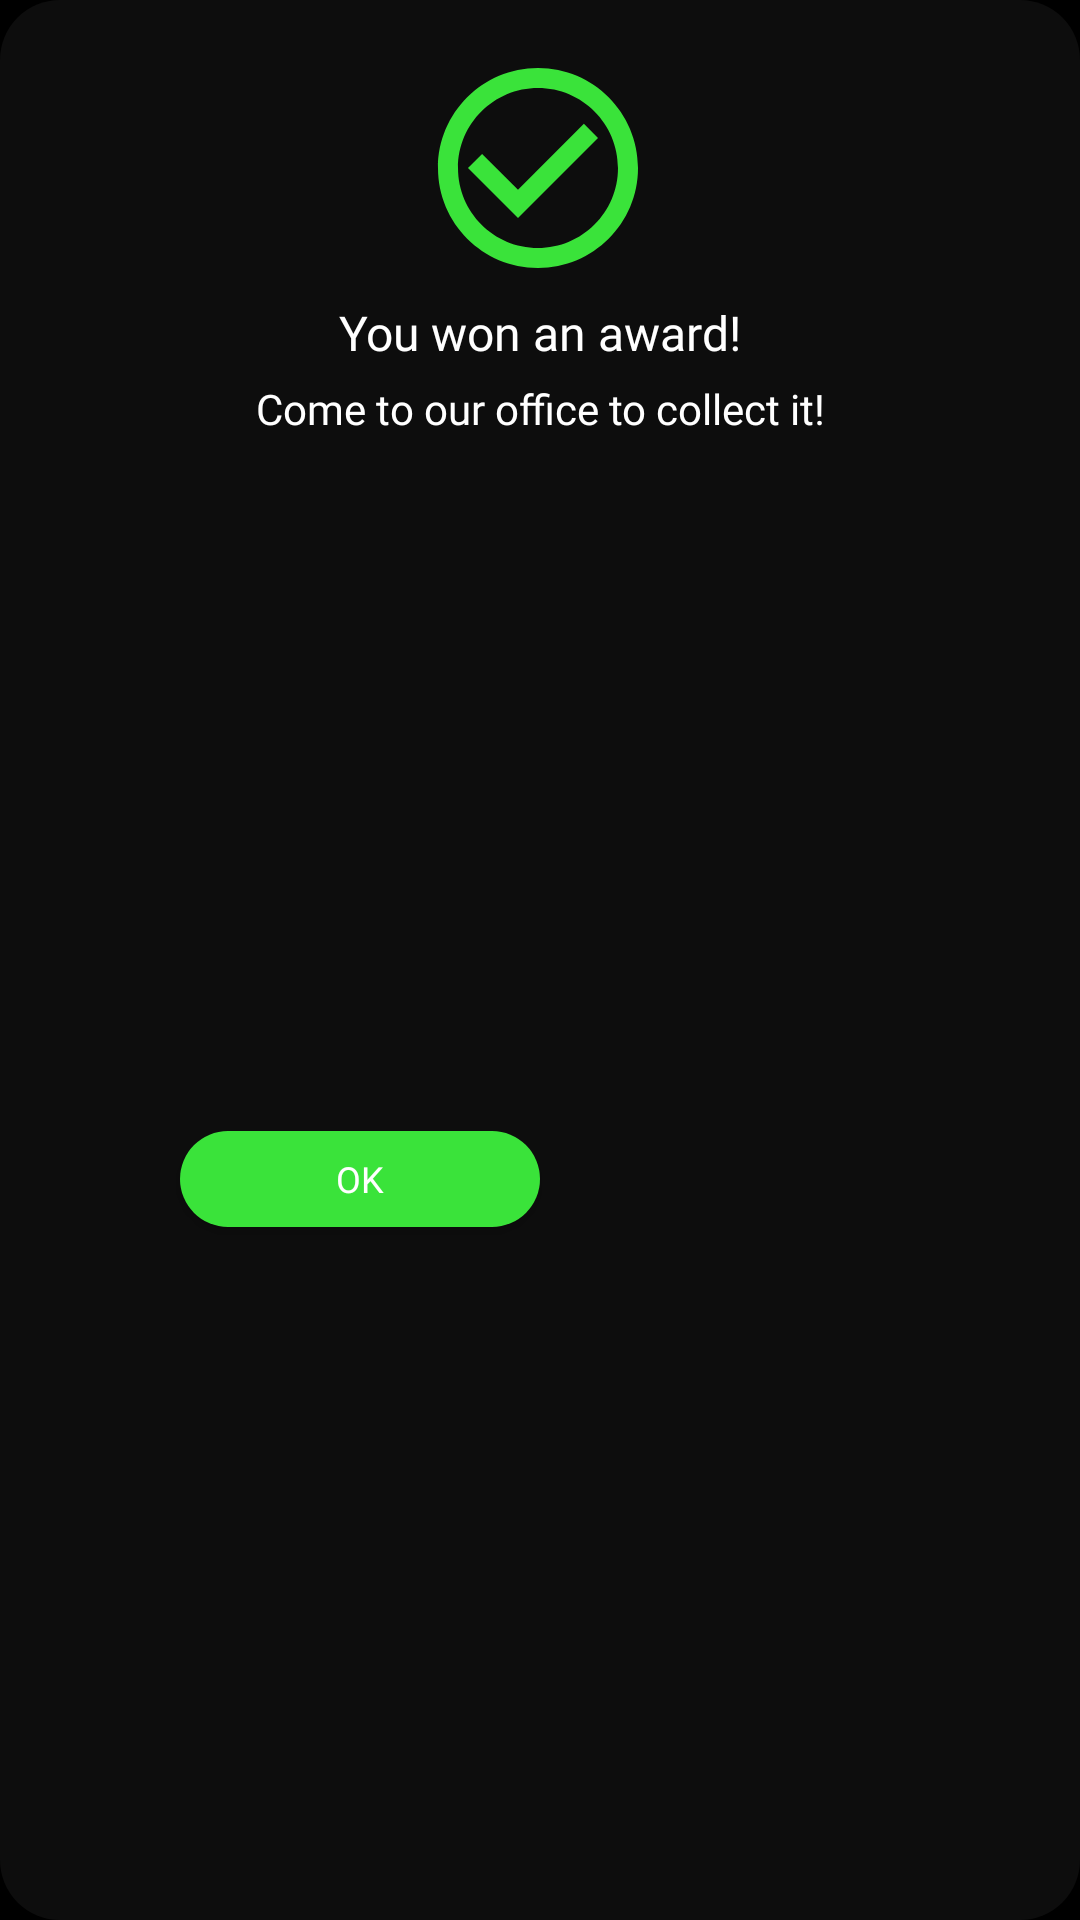

Point at icon controls on the screen. Image size 1080px x 1920px, points as [x,y].
Task already done!: [538,168]
